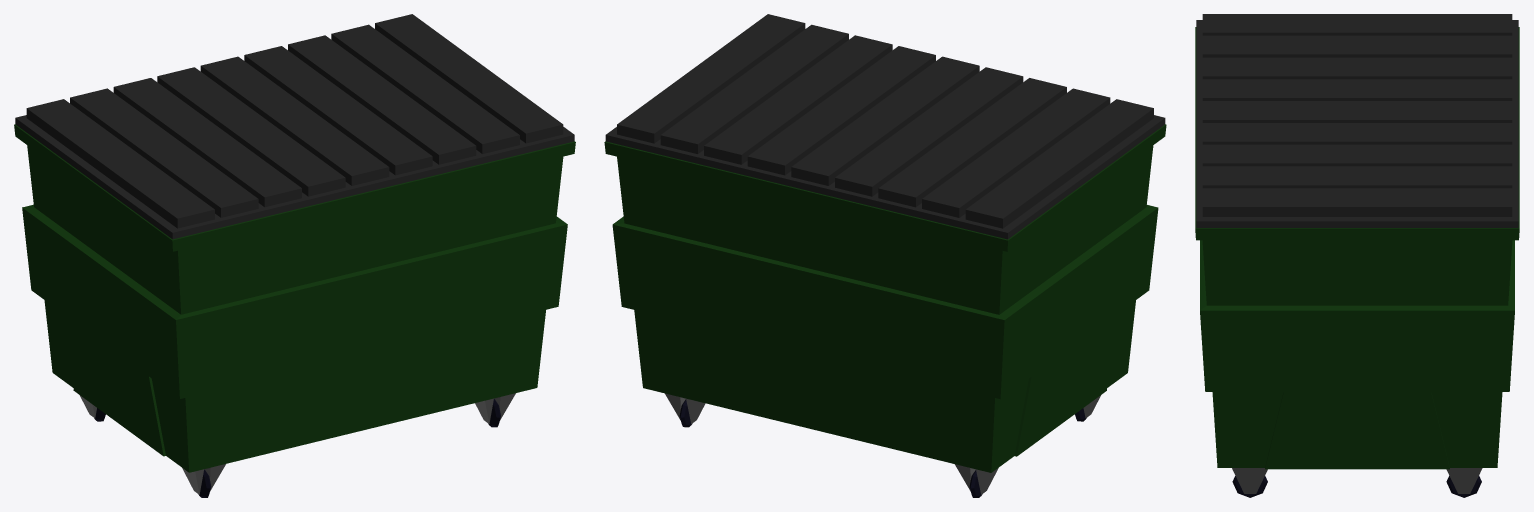
The model's file is container.fbx.
3 renders of one model, left to right at view 1: azimuth 30°, elevation 25°; view 2: azimuth 150°, elevation 25°; view 3: azimuth 270°, elevation 25°, orthographic. The views are drawn at different scales.
Parts seen in each view (by area): view 1: box, tapa, ruedas; view 2: box, tapa, ruedas; view 3: box, tapa, ruedas.
Part boxes in pixels (box(x1,y1,x2,y2)): box: box(14, 124, 575, 472); tapa: box(15, 14, 574, 239); ruedas: box(79, 393, 515, 497); box: box(604, 124, 1166, 472); tapa: box(605, 14, 1165, 239); ruedas: box(665, 393, 1100, 497); box: box(1195, 27, 1519, 469); tapa: box(1196, 14, 1518, 227); ruedas: box(1232, 468, 1482, 497).
Bounding box in the file's own units: 157 × 115 × 107.
